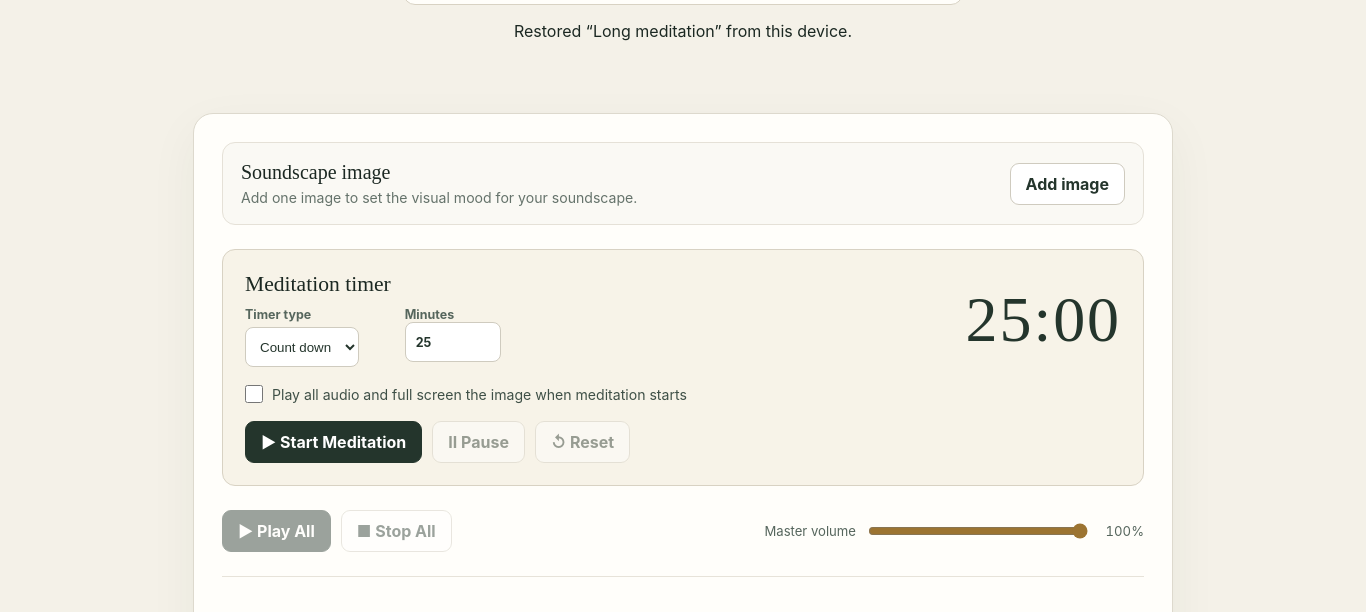
Test: App › opens saved timer settings and resets a completed timer session
(page scrolled)
Select "Count down" in the dropdown labelled "Timer type": [302, 347] box x1=245 y1=327 x2=359 y2=367
Replace the text in the number field labelled "Minutes" with "1": [453, 342] box x1=405 y1=322 x2=501 y2=362
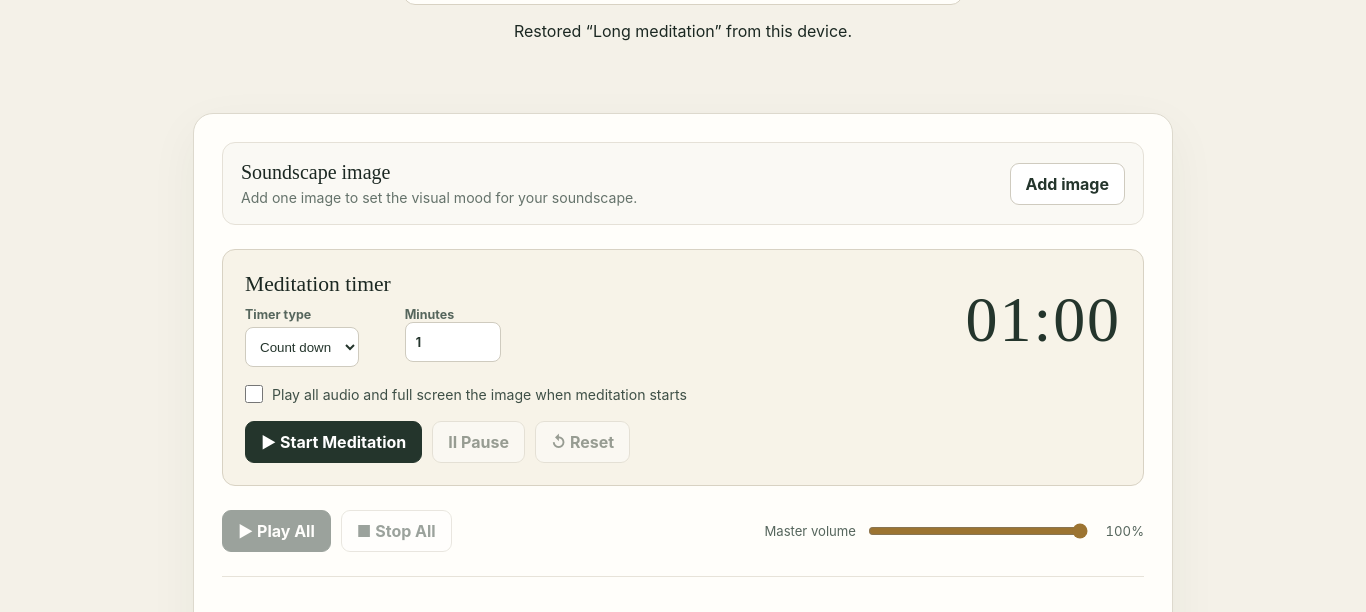
Click the button "▶ Start Meditation": [334, 442] box x1=245 y1=421 x2=422 y2=463
Wait 60000 ms
(page scrolled)
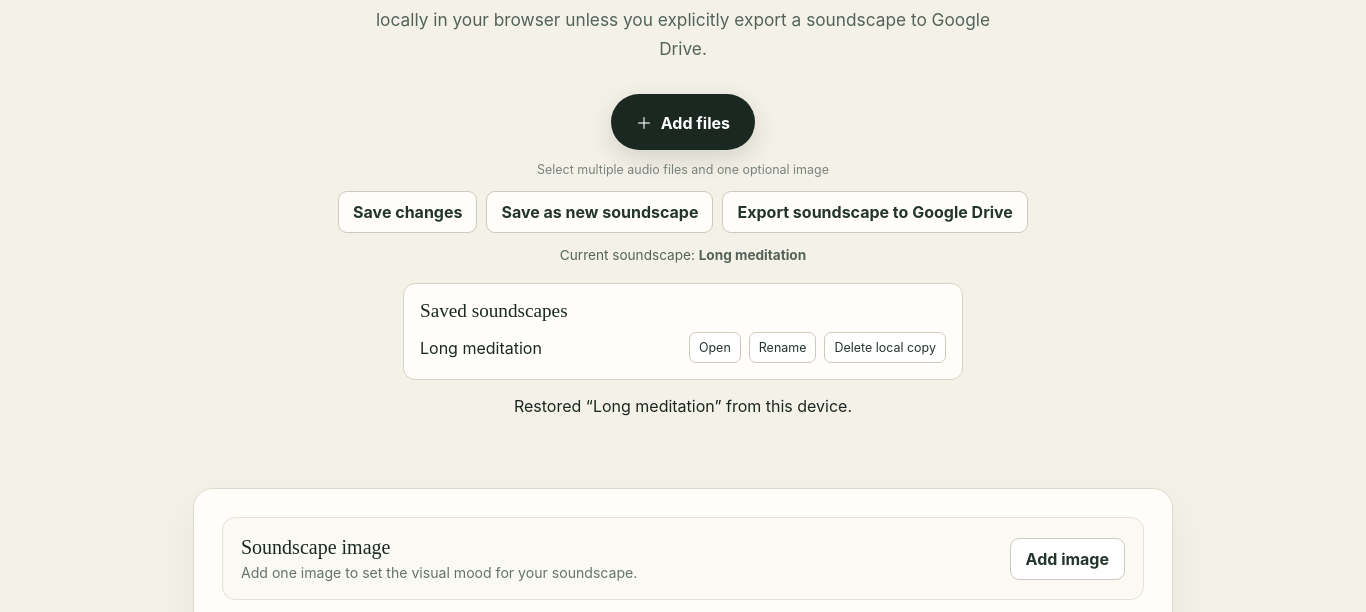
Click the button with aria-label "Open Long meditation": [715, 348] box x1=689 y1=332 x2=741 y2=363
(page scrolled)
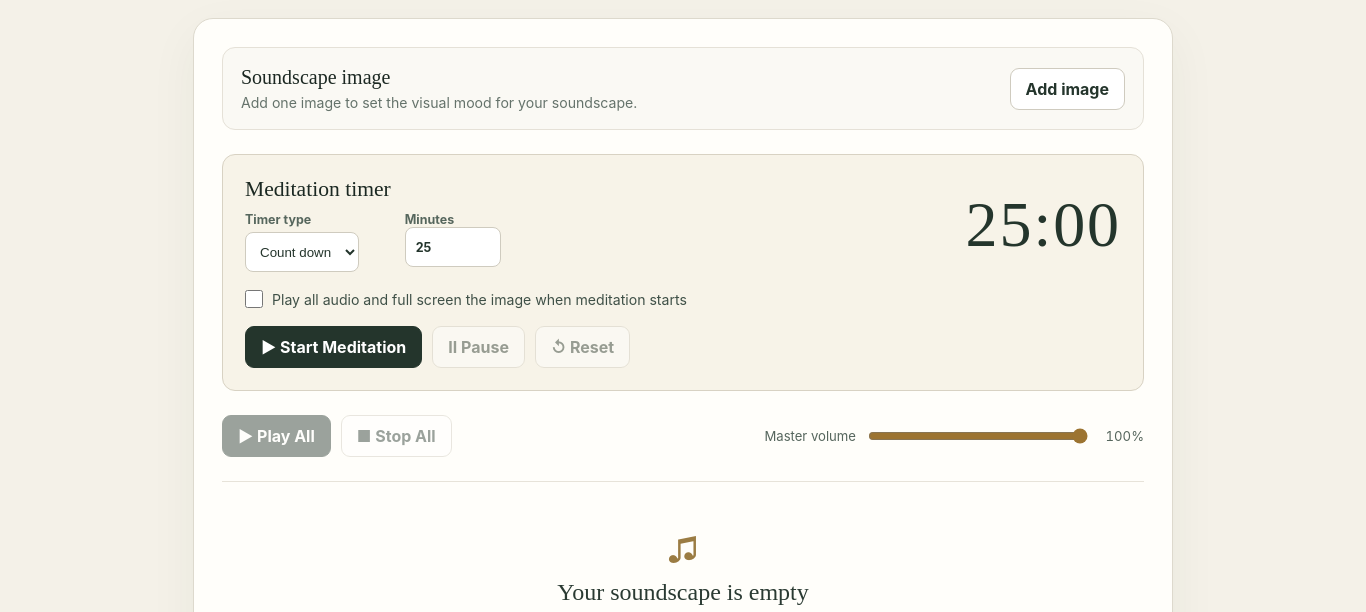
expect the dropdown labelled "Timer type" shows "Count down": met, box x1=245 y1=232 x2=359 y2=272
expect the number field labelled "Minutes" holds "25": met, box x1=405 y1=227 x2=501 y2=267
expect the text "25:00" is shown: met, box x1=966 y1=188 x2=1121 y2=262
